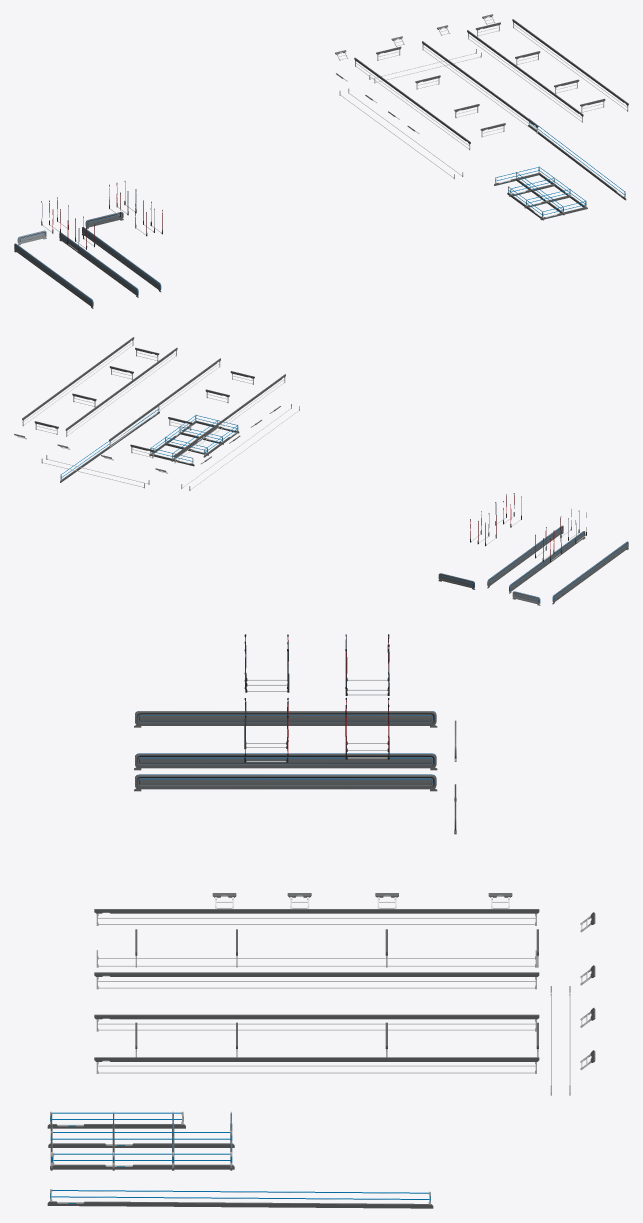
Rendered from Fence_type_A_007_01.fbx.
The picture shows the model from 3 angles, top to bottom: view 1: azimuth 30°, elevation 25°; view 2: azimuth 150°, elevation 25°; view 3: azimuth 270°, elevation 25°; orthographic projection. The views are drawn at different scales.
Visible parts, largest first — view 1: Fence_type_A_007.012, Fence_type_A_007.010, Fence_type_A_007.009, Fence_type_A_007.011, Fence_type_B_013.004, Fence_type_B_013.002, Fence_type_B_013.003, Fence_type_A_006.014; view 2: Fence_type_A_007.012, Fence_type_A_007.010, Fence_type_A_007.009, Fence_type_A_007.011, Fence_type_B_013.004, Fence_type_B_013.003, Fence_type_B_013.002, Fence_type_A_006.014; view 3: Fence_type_B_013.003, Fence_type_B_013.002, Fence_type_B_013.004, Fence_type_A_007.011, Fence_type_A_007.012, Fence_type_A_007.010, Fence_type_A_007.009, Fence_type_A_006.014, Fence_type_A_006.020, Fence_type_A_006.019, Fence_type_A_006.018, Fence_type_A_007.022.
Boxes of the visible parts, x1,y1,x2,y2 form: Fence_type_A_007.012: (512,19,628,111); Fence_type_A_007.010: (422,41,538,133); Fence_type_A_007.009: (354,57,470,150); Fence_type_A_007.011: (467,30,583,122); Fence_type_B_013.004: (14,243,93,308); Fence_type_B_013.002: (59,232,138,297); Fence_type_B_013.003: (82,227,161,292); Fence_type_A_006.014: (528,118,626,200); Fence_type_A_007.012: (22,337,134,426); Fence_type_A_007.010: (109,358,220,447); Fence_type_A_007.009: (174,374,285,463); Fence_type_A_007.011: (65,348,177,436); Fence_type_B_013.004: (552,541,628,604); Fence_type_B_013.003: (487,525,563,588); Fence_type_B_013.002: (509,531,585,593); Fence_type_A_006.014: (60,406,159,482); Fence_type_B_013.003: (134,774,437,791); Fence_type_B_013.002: (134,753,437,770); Fence_type_B_013.004: (134,711,437,727); Fence_type_A_007.011: (94,1014,539,1031); Fence_type_A_007.012: (94,1057,539,1073); Fence_type_A_007.010: (94,972,539,989); Fence_type_A_007.009: (94,909,539,925); Fence_type_A_006.014: (47,1189,433,1208); Fence_type_A_006.020: (50,1152,234,1169); Fence_type_A_006.019: (48,1131,234,1147); Fence_type_A_006.018: (47,1111,185,1128); Fence_type_A_007.022: (96,958,536,967).
Bounding box in the file's own units: 9316 × 4368 × 1429.
